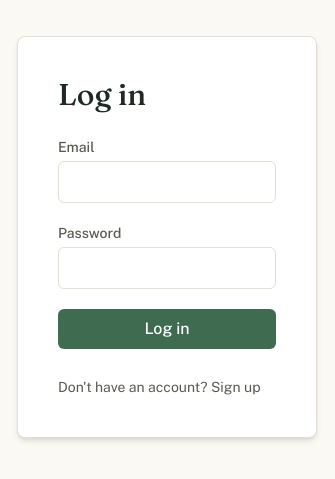
Test: Login › shows error message on failed login
Type "a@b.com" into the field labelled "Email". click: (167, 182)
box: [58,161,276,203]
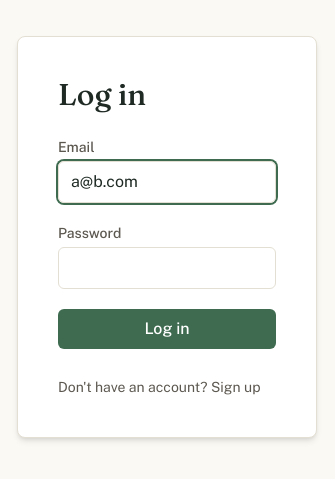
Type "wrong" into the password field labelled "Password". click: (167, 268)
box: [58,247,276,289]
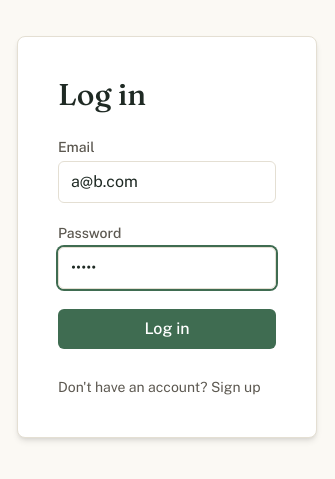
Click the button "Log in". click: (167, 329)
box: [58,309,276,349]
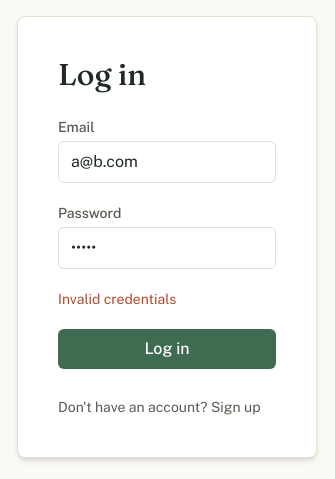
Expected: the text "Invalid credentials" is shown, [58,291,176,307]
